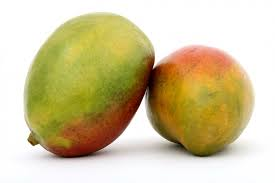mango: (16, 6, 150, 164), (152, 42, 263, 164)
